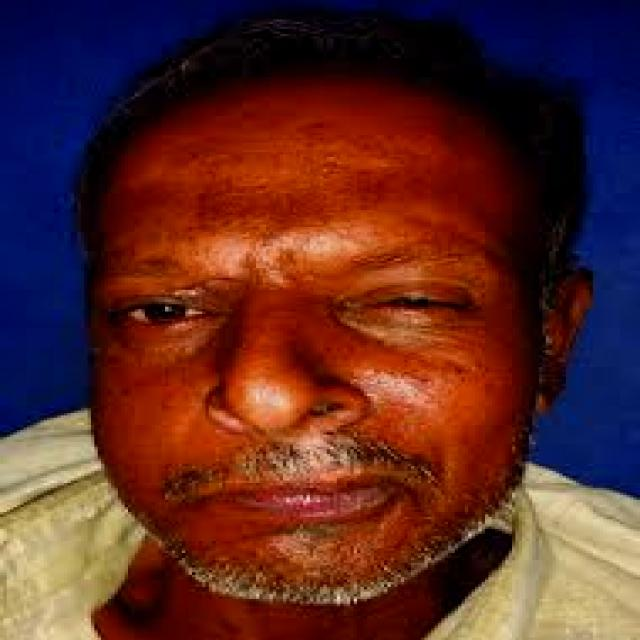stroke_face: (98, 57, 562, 639)
